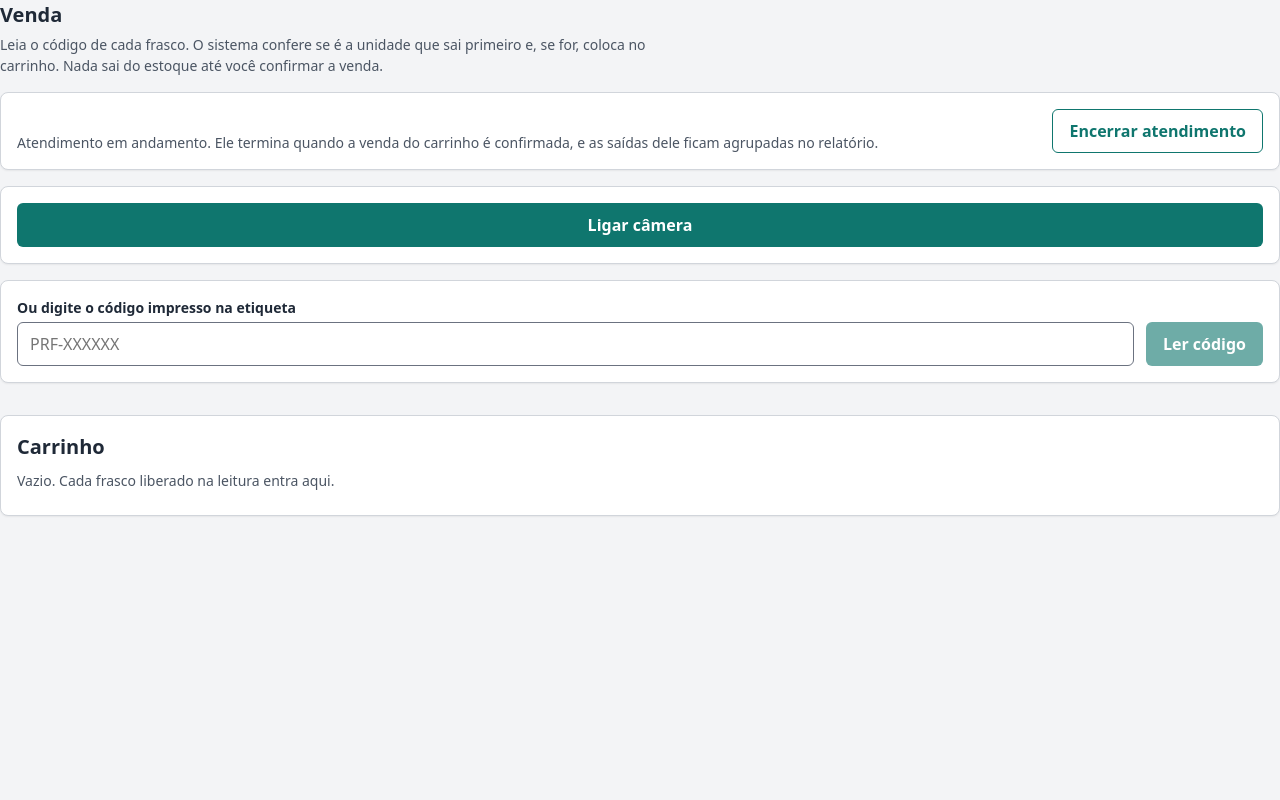
Scenario: TelaVenda (RF05, RF06, RNF07, T34) › os quatro vereditos na leitura, cada um com seu layout › destaca o código da unidade correta e não põe a barrada no carrinho
Type "PRF-ZZZZZZ" into the field labelled "Ou digite o código impresso na etiqueta" at (575, 344), box [17,322,1134,366]
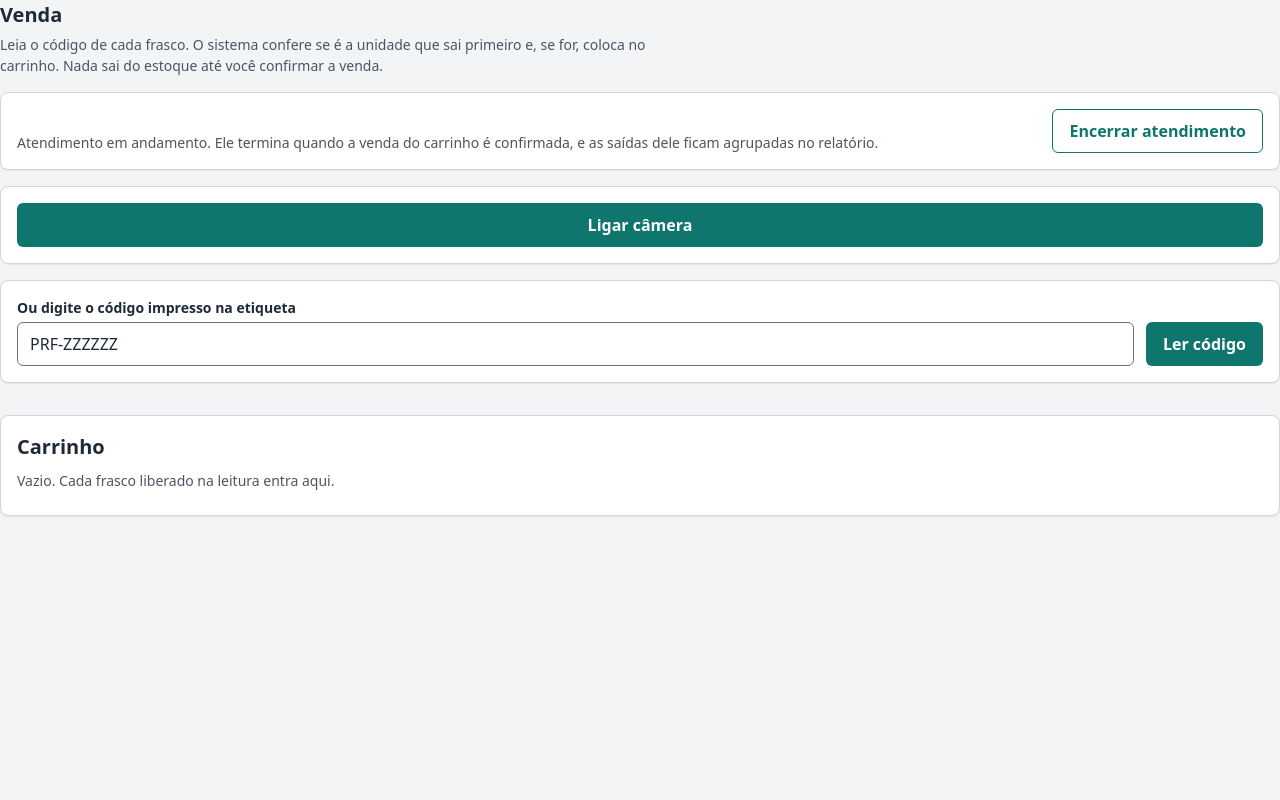
Click the button "Ler código" at (1204, 344), box [1146,322,1263,366]
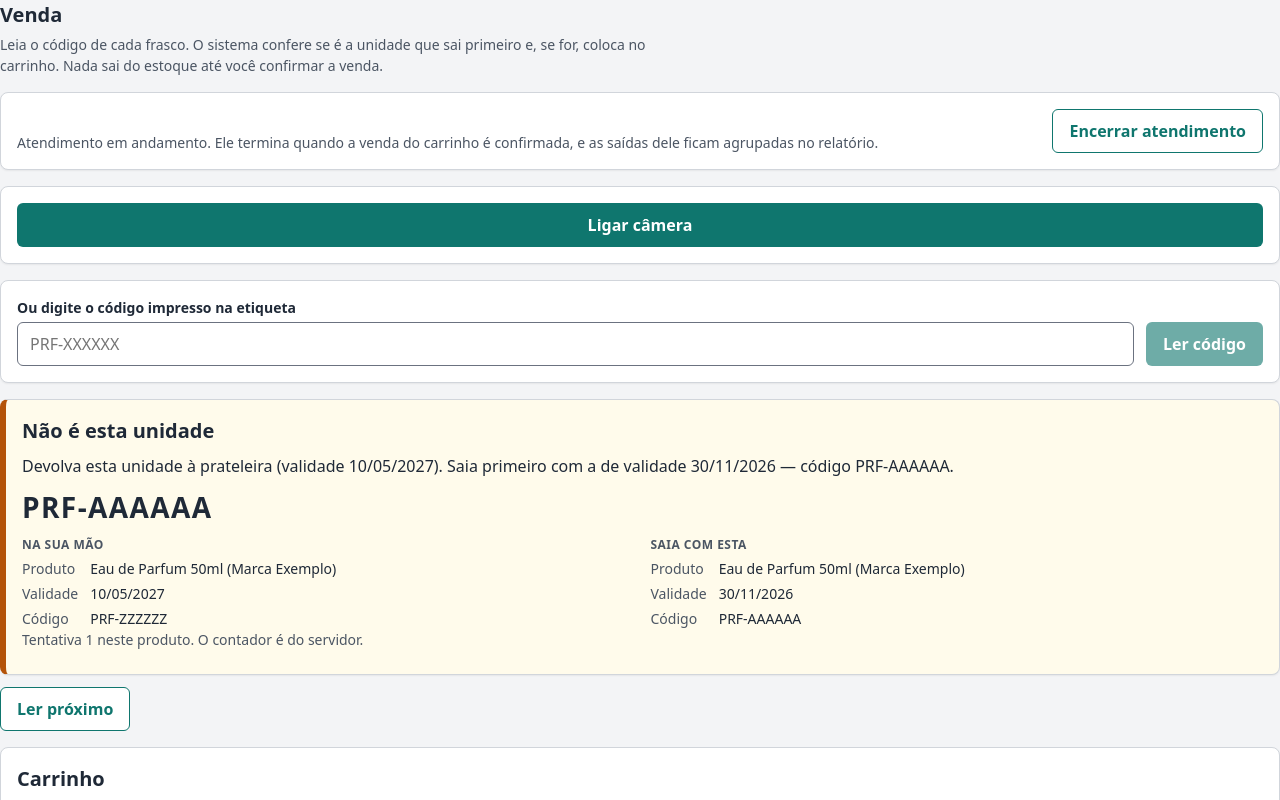
Expected: the heading "Não é esta unidade" is shown, [22,417,214,444]
Expected: the text "Devolva esta unidade à prateleira (validade 10/05/2027). Saia primeiro com a de validade 30/11/2026 — código PRF-AAAAAA." is shown, [22,455,954,477]
Expected: the heading "Na sua mão" is shown, [22,536,104,553]
